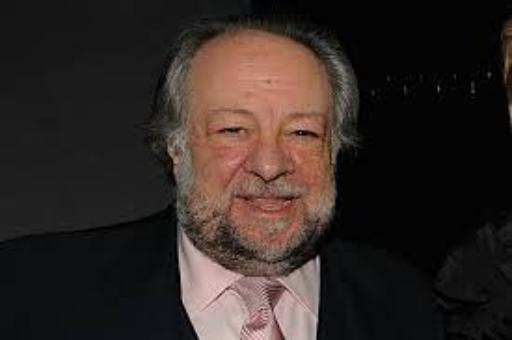left_eye: (288, 127, 325, 144)
left_lip_corner: (285, 194, 302, 205)
right_eye: (211, 125, 253, 140)
right_lip_corner: (233, 192, 251, 206)
